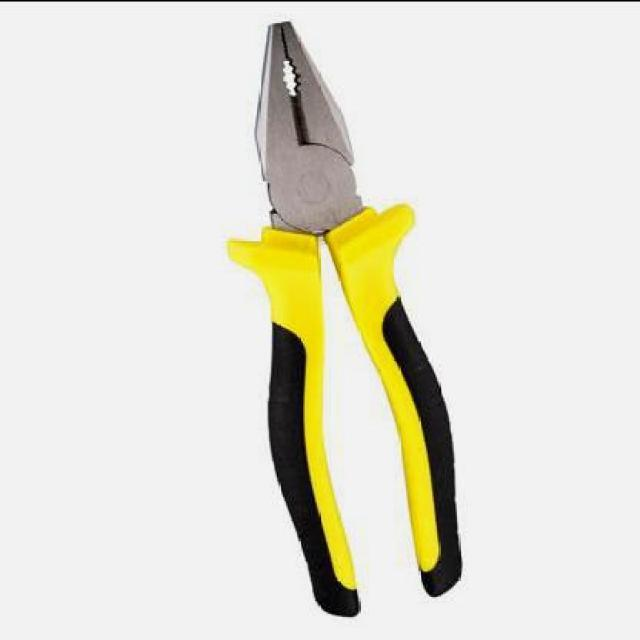pliers: (230, 22, 464, 616)
